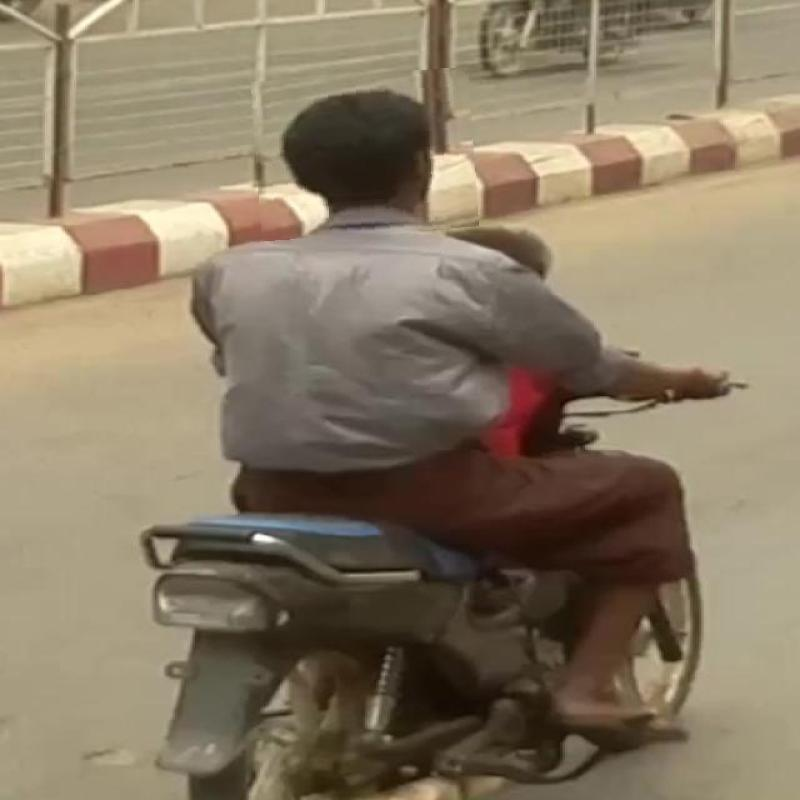nohelmet: (253, 70, 477, 238)
